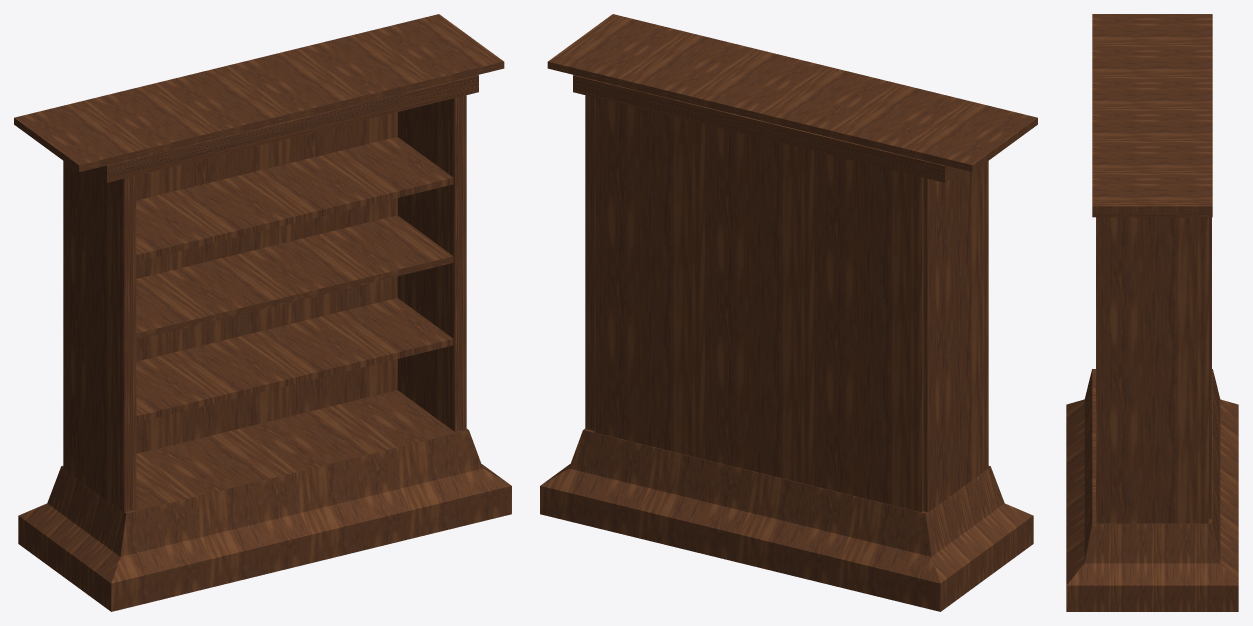
The model's file is bookshelf2.fbx.
3 views of the same model, side by side, from view 1: azimuth 30°, elevation 25°; view 2: azimuth 150°, elevation 25°; view 3: azimuth 270°, elevation 25° (orthographic). The views are drawn at different scales.
Parts seen in each view (by area): view 1: Cube.009, Cube.008, Cube.010, Cube.005, Cube.001, Cube.002, Cube.003, Cube.004, Cube.007; view 2: Cube.010, Cube.009, Cube.008, Cube.005, Cube.007, Cube.004; view 3: Cube.004, Cube.008, Cube.009, Cube.010, Cube.007.
Part boxes in pixels (x1,y1,x2,y2): Cube.009: (18,390,511,611); Cube.008: (14,14,504,172); Cube.010: (136,112,397,453); Cube.005: (63,161,136,512); Cube.001: (136,215,453,339); Cube.002: (136,137,453,261); Cube.003: (136,298,453,422); Cube.004: (397,95,466,431); Cube.007: (89,75,478,182); Cube.010: (594,97,923,512); Cube.009: (540,428,1033,611); Cube.008: (547,14,1037,172); Cube.005: (923,161,988,512); Cube.007: (573,75,962,182); Cube.004: (585,95,594,430); Cube.004: (1096,217,1208,523); Cube.008: (1092,14,1212,212); Cube.009: (1066,369,1238,611); Cube.010: (1209,217,1211,518); Cube.007: (1092,212,1212,217).
Bounding box in the file's own units: 160 × 158 × 60.39.
Materials: 1 (1 with a texture image).
